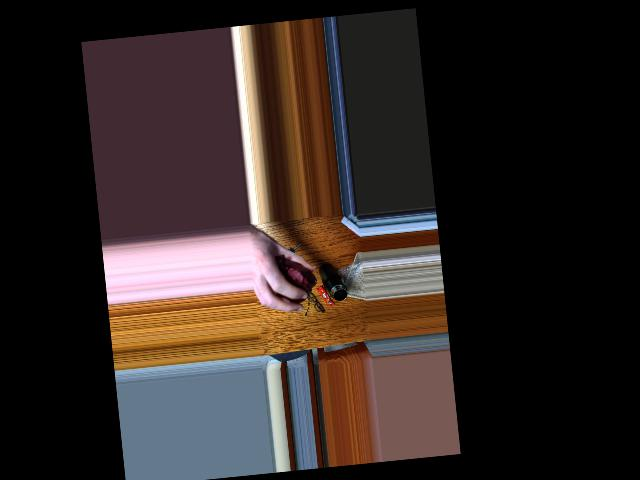onion: (273, 249, 314, 304)
